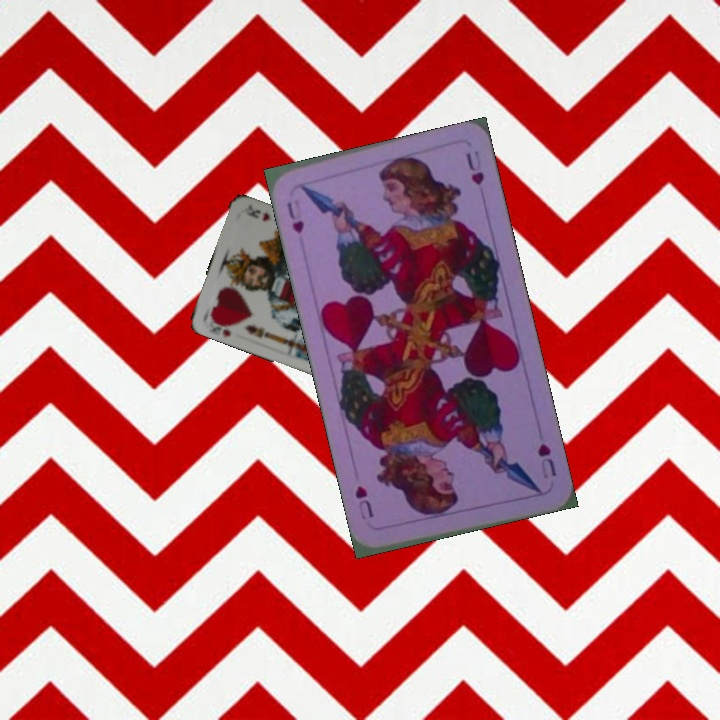HK: (208, 322, 233, 340)
HU: (533, 439, 559, 481), (283, 198, 307, 236)
